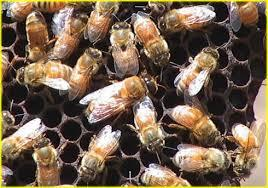worker-bee: (79, 75, 152, 123), (162, 91, 222, 146), (78, 125, 120, 180), (174, 47, 219, 95), (131, 11, 169, 66), (127, 96, 164, 151), (2, 118, 45, 162), (172, 143, 231, 174), (68, 47, 102, 100), (49, 13, 87, 59), (16, 60, 72, 91), (158, 4, 215, 32), (110, 22, 138, 77), (84, 2, 119, 43), (32, 137, 59, 185), (25, 11, 48, 61), (140, 163, 190, 185)
